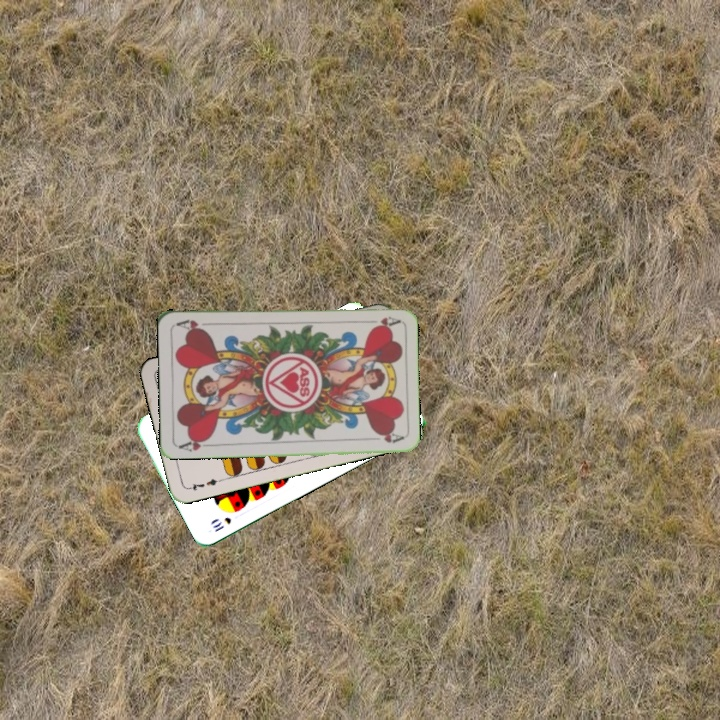E7: (184, 475, 224, 493)
HA: (175, 434, 215, 454), (361, 312, 401, 330)
S10: (208, 513, 234, 534)
